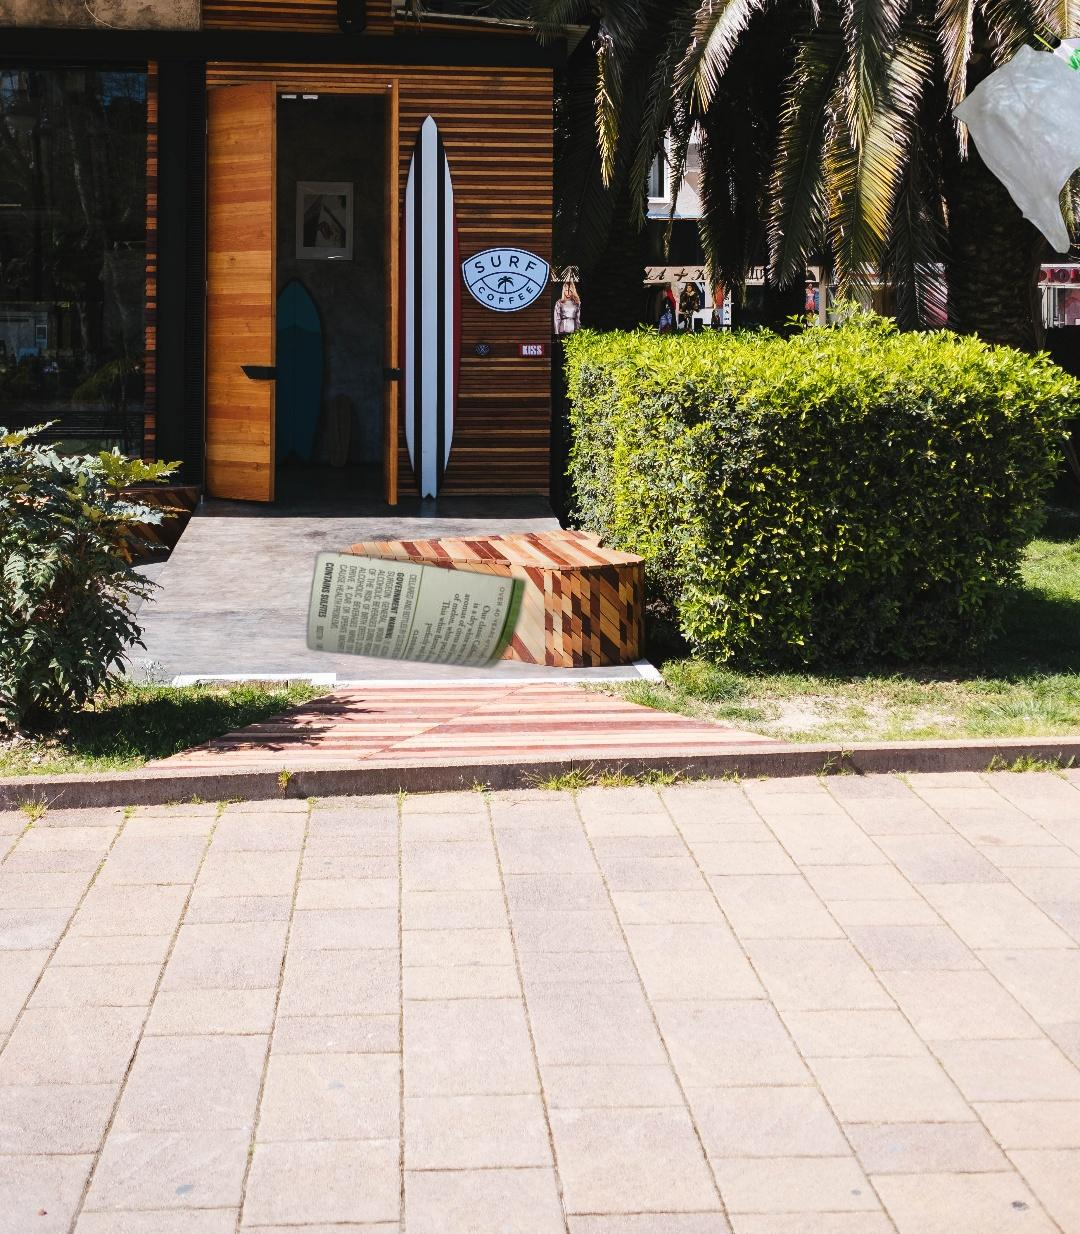glass: (172, 423, 684, 689)
plastic-bag: (948, 22, 1080, 255)
